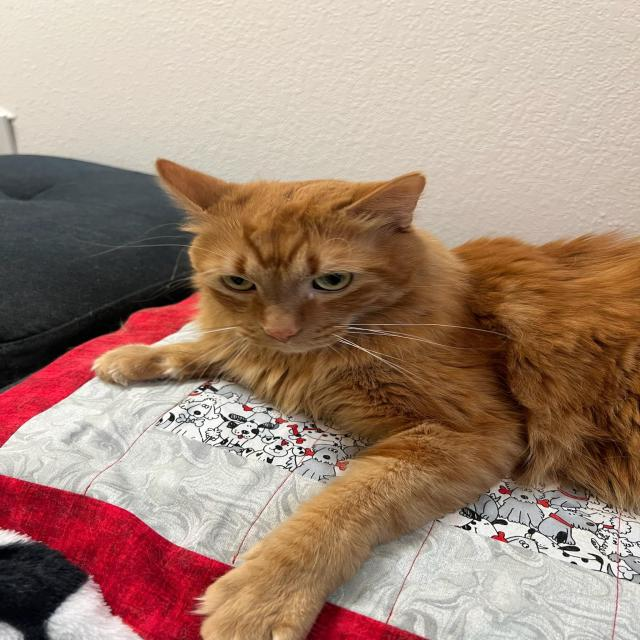domestic_long_hair_cat: (145, 150, 441, 367)
